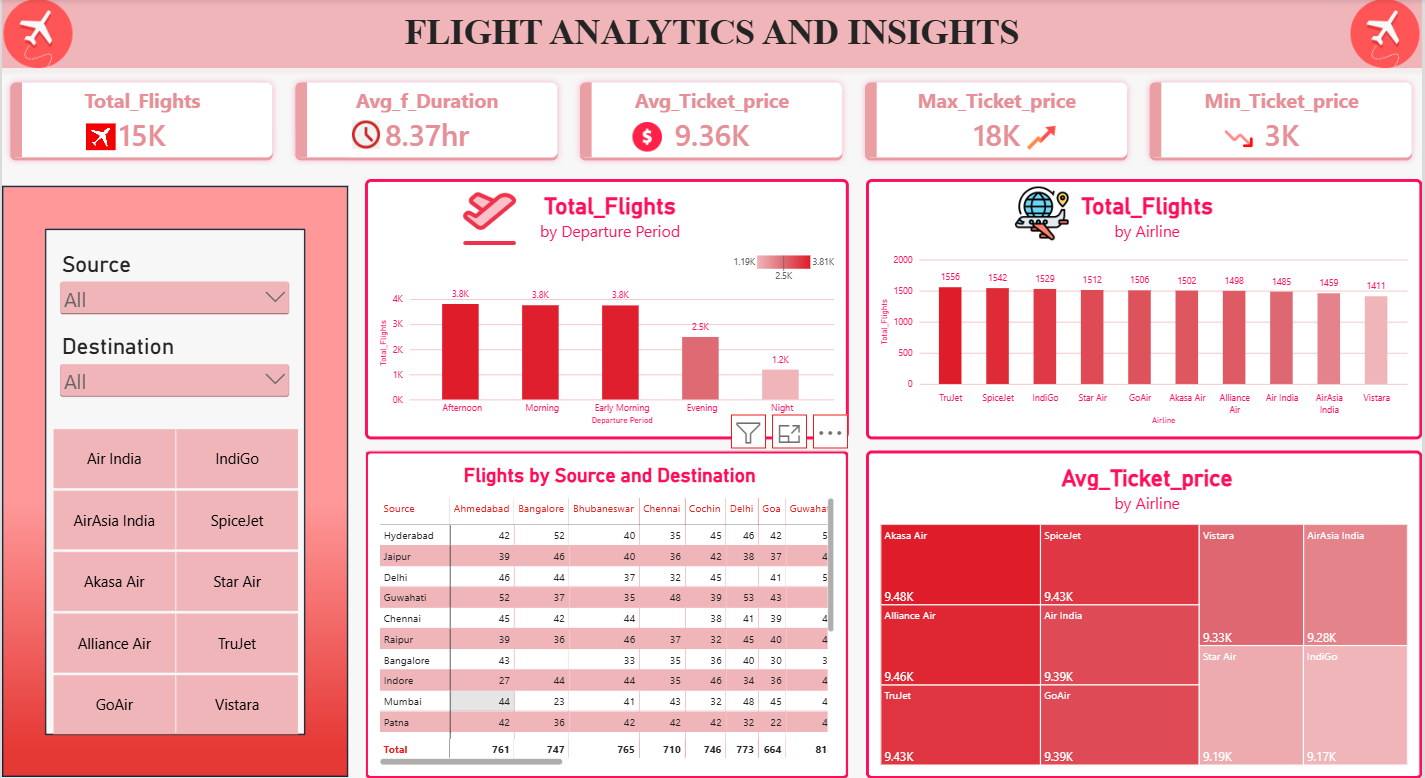

The dashboard page shown, as its layout file describes it:
{"tool":"powerbi","page":{"name":"flight overview","canvas":[1920,1080],"ordinal":0},"visuals":[{"type":"textbox","box":[0,0,1919.3,93.1],"z":0},{"type":"image","box":[0,0,97.7,93.1],"z":1000},{"type":"image","box":[1820.8,0,97.7,93.1],"z":2000},{"type":"image","box":[420,134.3,57.1,35.7],"z":3000},{"type":"image","box":[798.6,134.3,71.4,51.4],"z":4000},{"type":"cardVisual","fields":{"Data":["flights.Total_Flights","flights.Avg_f_Duration","flights.Avg_Ticket_price","flights.Max_Ticket_price","flights.Min_Ticket_price"]},"box":[0,102.2,1919.3,124.9],"z":5000},{"type":"actionButton","box":[113.6,168.1,40,35.7],"z":6000},{"type":"image","box":[467.9,163.5,47.7,38.6],"z":7000},{"type":"image","box":[844.9,165.8,52.9,40],"z":8000},{"type":"image","box":[1383.2,168.1,44.3,38.6],"z":9000},{"type":"image","box":[1644.4,165.8,54.5,45.4],"z":10000},{"type":"clusteredColumnChart","fields":{"Y":["flights.Total_Flights"],"Category":["flights.Departure Period"]},"box":[490.6,243,654.1,352.1],"z":11000},{"type":"image","box":[0,227.1,467.9,851.7],"z":12000},{"type":"slicer","fields":{"Values":["flights.destination"]},"box":[72.7,452,320.3,88.6],"z":13000},{"type":"slicer","fields":{"Values":["flights.Source"]},"box":[72.7,340.7,320.3,95.4],"z":14000},{"type":"slicer","title":"Airlines","fields":{"Values":["flights.Airline"]},"box":[47.7,561,370.2,433.8],"z":15000},{"type":"clusteredColumnChart","fields":{"Y":["flights.Total_Flights"],"Category":["flights.Airline"]},"box":[1167.5,243,751.8,352.1],"z":16000},{"type":"pivotTable","title":"Flights by Source and Destination","fields":{"Rows":["flights.Source"],"Values":["flights.Total_Flights"],"Columns":["flights.destination"]},"box":[490.6,611,654.1,445.2],"z":17000},{"type":"treemap","fields":{"Group":["flights.Airline"],"Values":["flights.Avg_Ticket_price"]},"box":[1167.5,611,751.8,445.2],"z":18000},{"type":"image","box":[596.1,253.4,125.7,87.2],"z":19000},{"type":"image","box":[1362.8,254.4,86.3,72.7],"z":20000}]}

Visuals, with their boxes on the page's 1920x1080 design canvas (x1, y1, x2, y2). These are canvas units, not pixel positions in the 1425x778 screenshot, which may show the page scaled, cropped or inside an application window:
textbox: <box>0,0,1919,93</box>
image: <box>0,0,98,93</box>
image: <box>1821,0,1918,93</box>
image: <box>420,134,477,170</box>
image: <box>799,134,870,186</box>
cardVisual - flights.Total_Flights x flights.Avg_f_Duration: <box>0,102,1919,227</box>
actionButton: <box>114,168,154,204</box>
image: <box>468,164,516,202</box>
image: <box>845,166,898,206</box>
image: <box>1383,168,1428,207</box>
image: <box>1644,166,1699,211</box>
clusteredColumnChart - flights.Total_Flights x flights.Departure Period: <box>491,243,1145,595</box>
image: <box>0,227,468,1079</box>
slicer - flights.destination: <box>73,452,393,541</box>
slicer - flights.Source: <box>73,341,393,436</box>
"Airlines" slicer: <box>48,561,418,995</box>
clusteredColumnChart - flights.Total_Flights x flights.Airline: <box>1168,243,1919,595</box>
"Flights by Source and Destination" pivotTable: <box>491,611,1145,1056</box>
treemap - flights.Airline x flights.Avg_Ticket_price: <box>1168,611,1919,1056</box>
image: <box>596,253,722,341</box>
image: <box>1363,254,1449,327</box>
